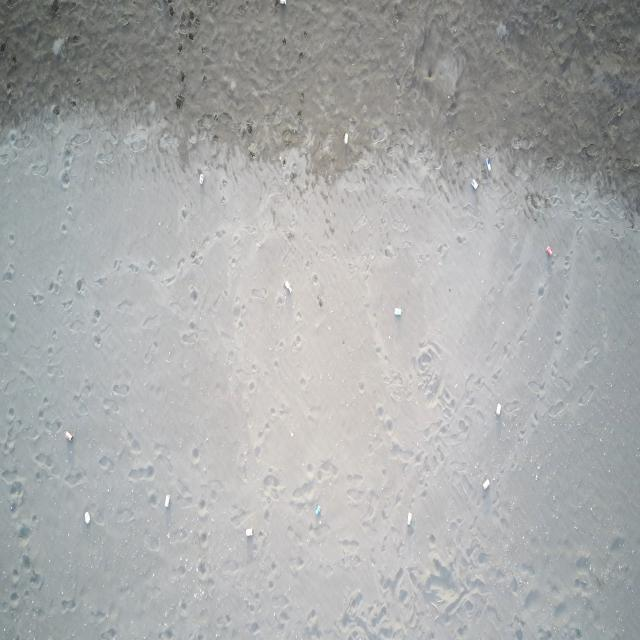tin-and-aluminum-cans: (283, 280, 293, 294), (64, 431, 74, 443), (84, 511, 92, 526), (315, 503, 323, 518), (406, 511, 413, 528), (485, 156, 492, 172), (470, 177, 478, 191), (495, 403, 502, 419), (394, 307, 403, 318), (482, 478, 490, 490), (198, 172, 204, 187), (246, 527, 254, 537), (344, 131, 349, 146), (165, 493, 170, 507), (279, 0, 287, 8), (546, 246, 552, 256)
